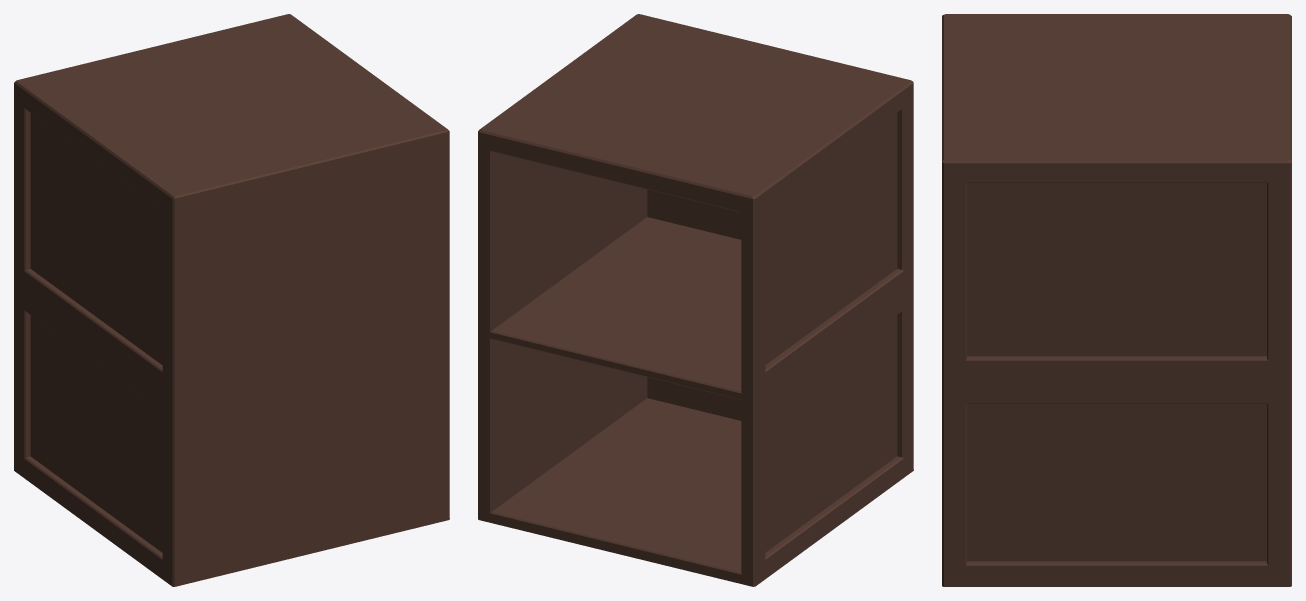
File: SM_FileCabinetSmall_001.fbx
3 renders of one model, left to right at view 1: azimuth 30°, elevation 25°; view 2: azimuth 150°, elevation 25°; view 3: azimuth 270°, elevation 25°, orthographic. The views are drawn at different scales.
Parts seen in each view (by area): view 1: pCube63; view 2: pCube63; view 3: pCube63.
Part boxes in pixels (box(x1,y1,x2,y2)): pCube63: box(14, 14, 449, 586); pCube63: box(478, 14, 913, 586); pCube63: box(942, 14, 1291, 586).
Bounding box in the file's own units: 70 × 94.03 × 70.
